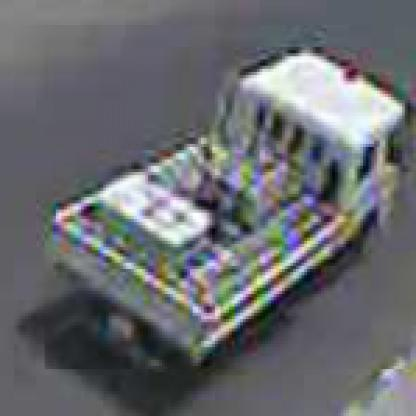truck: (43, 39, 411, 373)
